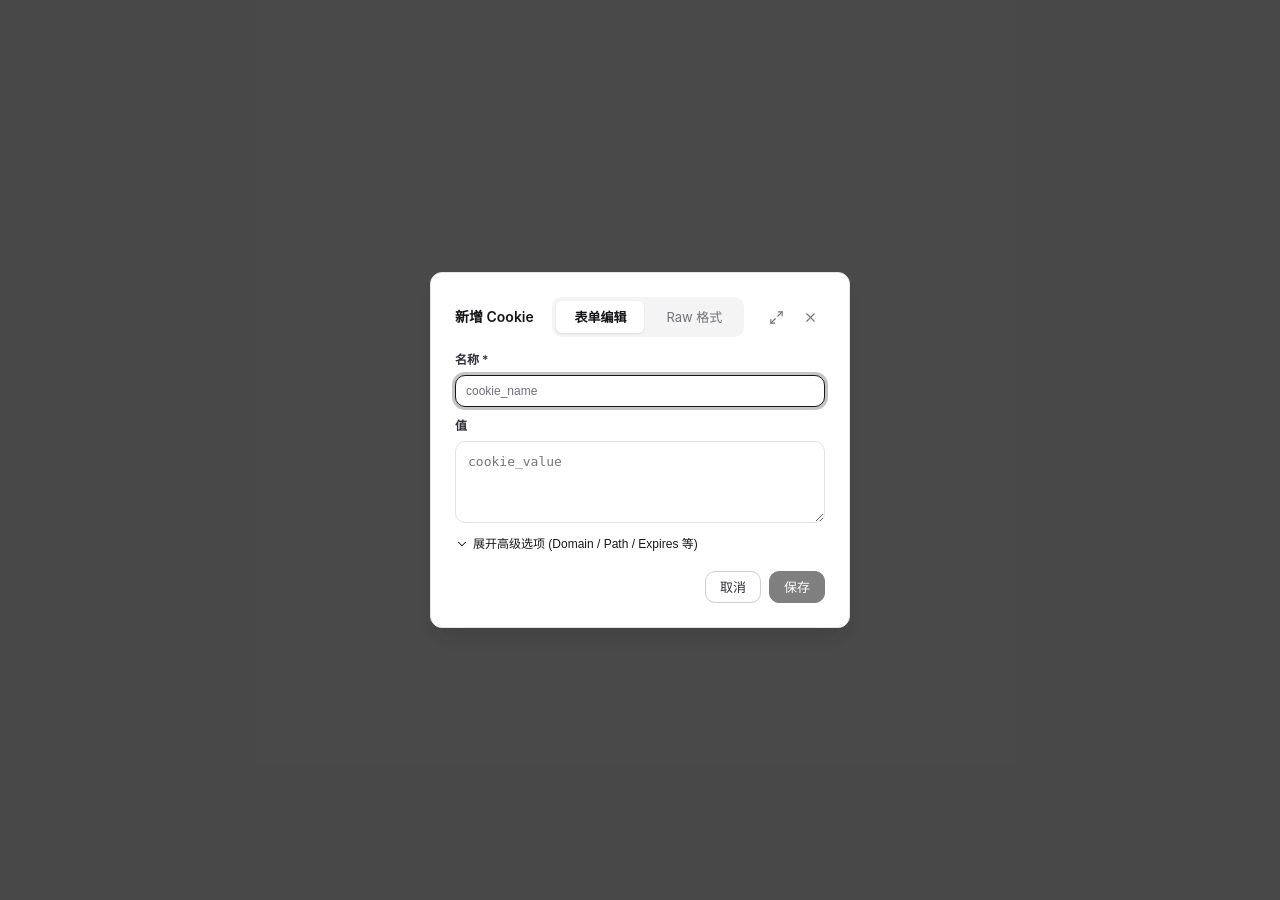
Test: CookieEditModal 渲染与初始化 › 新建模式：标题为「新增 Cookie」，域名默认取 pageUrl 主机名、Path 为 /
Expected: the field labelled "名称 *" is empty, [455, 375, 825, 407]
Expected: the text box labelled "值" is empty, [455, 441, 825, 523]
Click the button "展开高级选项 (Domain / Path / Expires 等)" at (576, 544), box [455, 535, 698, 553]
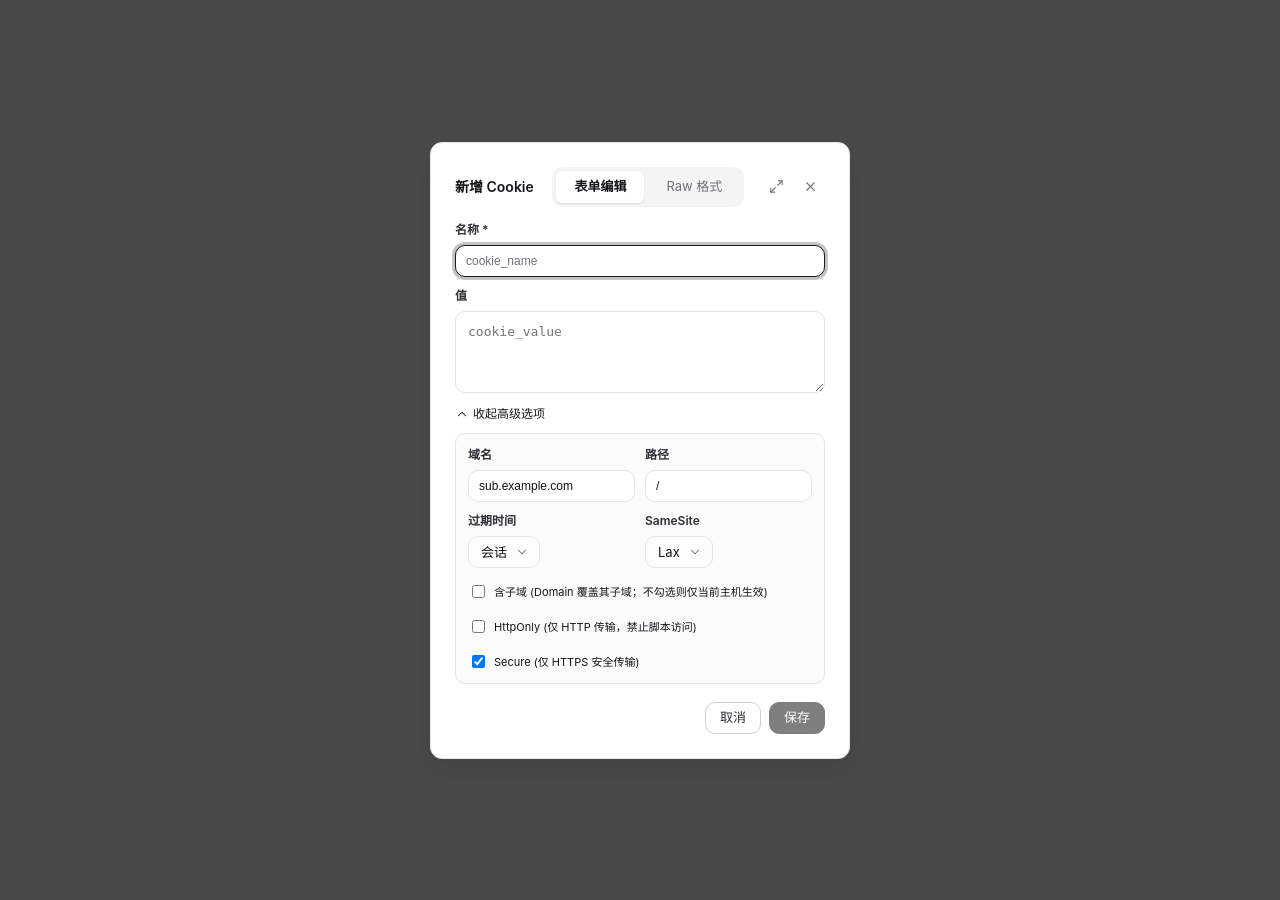
Now the field labelled "域名" holds "sub.example.com", box [468, 470, 635, 502]
Now the checkbox labelled "Secure (仅 HTTPS 安全传输)" is checked, box [472, 654, 485, 668]
Now the checkbox labelled "HttpOnly (仅 HTTP 传输，禁止脚本访问)" is not checked, box [472, 620, 485, 632]
